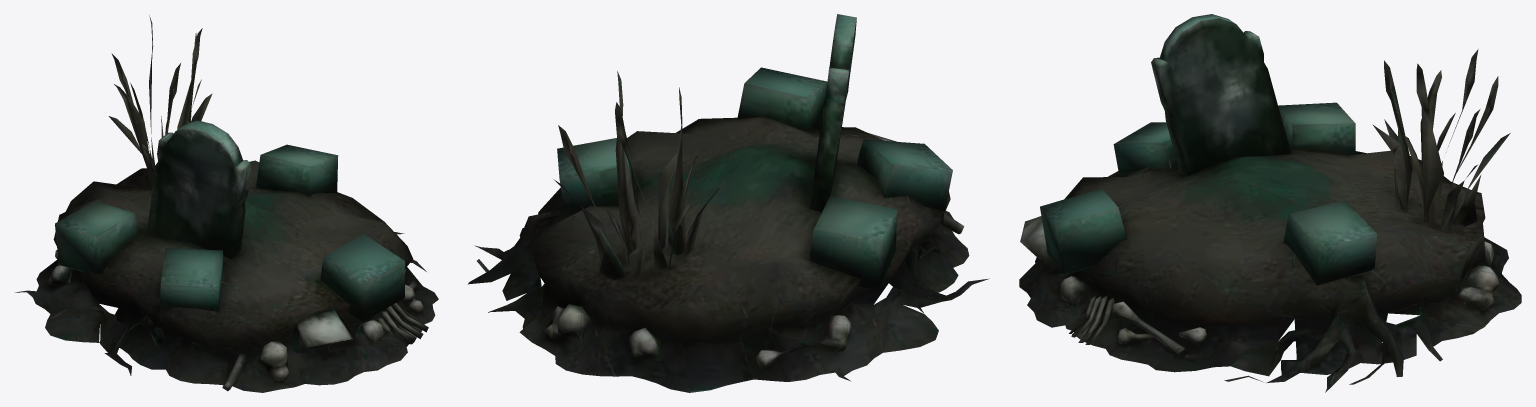
Rendered from fen_hummock.glb.
3 renders of one model, left to right at view 1: azimuth 30°, elevation 25°; view 2: azimuth 150°, elevation 25°; view 3: azimuth 270°, elevation 25°, orthographic. The views are drawn at different scales.
Visible parts, largest first — view 1: tripo_node_de52a4e7-c369-465c-b025-d301eaaaf3cd; view 2: tripo_node_de52a4e7-c369-465c-b025-d301eaaaf3cd; view 3: tripo_node_de52a4e7-c369-465c-b025-d301eaaaf3cd.
Part boxes in pixels (box(x1,y1,x2,y2)): tripo_node_de52a4e7-c369-465c-b025-d301eaaaf3cd: box(15, 15, 438, 392); tripo_node_de52a4e7-c369-465c-b025-d301eaaaf3cd: box(468, 14, 989, 392); tripo_node_de52a4e7-c369-465c-b025-d301eaaaf3cd: box(1019, 14, 1521, 392).
Bounding box in the file's own units: 0.9511 × 0.5371 × 0.998.
1 material, 1 textured.
